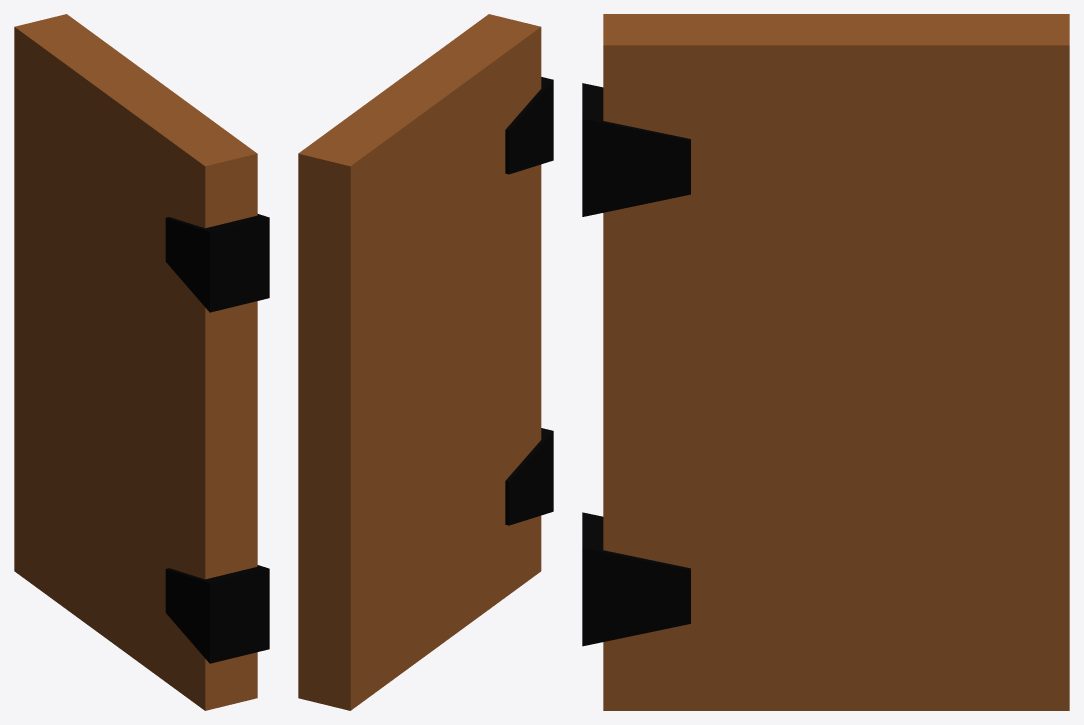
Rendered from door_wlock.fbx.
The picture shows the model from 3 angles, left to right: view 1: azimuth 30°, elevation 25°; view 2: azimuth 150°, elevation 25°; view 3: azimuth 270°, elevation 25°; orthographic projection. The views are drawn at different scales.
Visible parts, largest first — view 1: Door1, Hinge.003, Hinge.002; view 2: Door1, Hinge.002, Hinge.003; view 3: Door1, Hinge.003, Hinge.002.
Boxes of the visible parts, box(x1,y1,x2,y2) form: Door1: box(14, 14, 257, 710); Hinge.003: box(165, 565, 269, 663); Hinge.002: box(165, 214, 269, 312); Door1: box(298, 14, 541, 710); Hinge.002: box(505, 77, 553, 174); Hinge.003: box(505, 428, 553, 525); Door1: box(603, 14, 1069, 710); Hinge.003: box(582, 512, 690, 646); Hinge.002: box(582, 83, 690, 216).
Bounding box in the file's own units: 0.6951 × 6.06 × 4.02.
